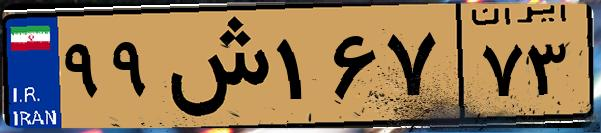1: (270, 28, 330, 110)
3: (525, 38, 570, 115)
6: (330, 28, 385, 110)
7: (385, 28, 445, 110), (475, 38, 525, 113)
9: (57, 26, 110, 100), (110, 28, 158, 98)
ش: (158, 12, 270, 120)
